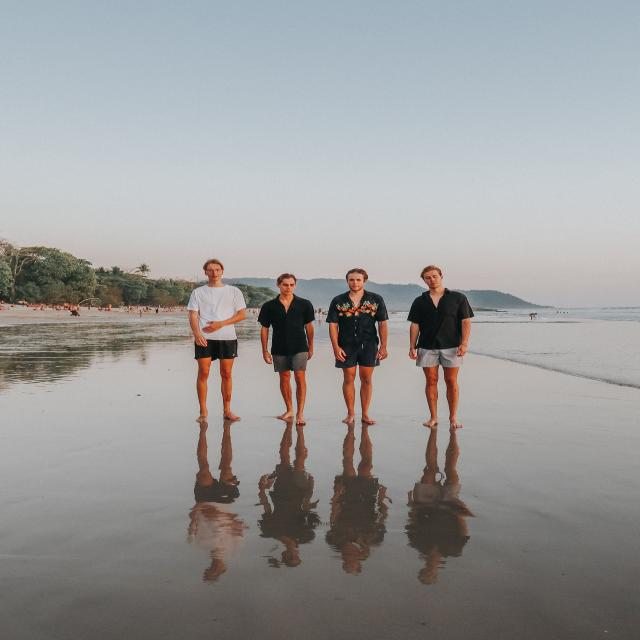standing: (405, 263, 477, 431), (184, 258, 252, 422), (326, 266, 394, 426), (262, 271, 318, 425)
